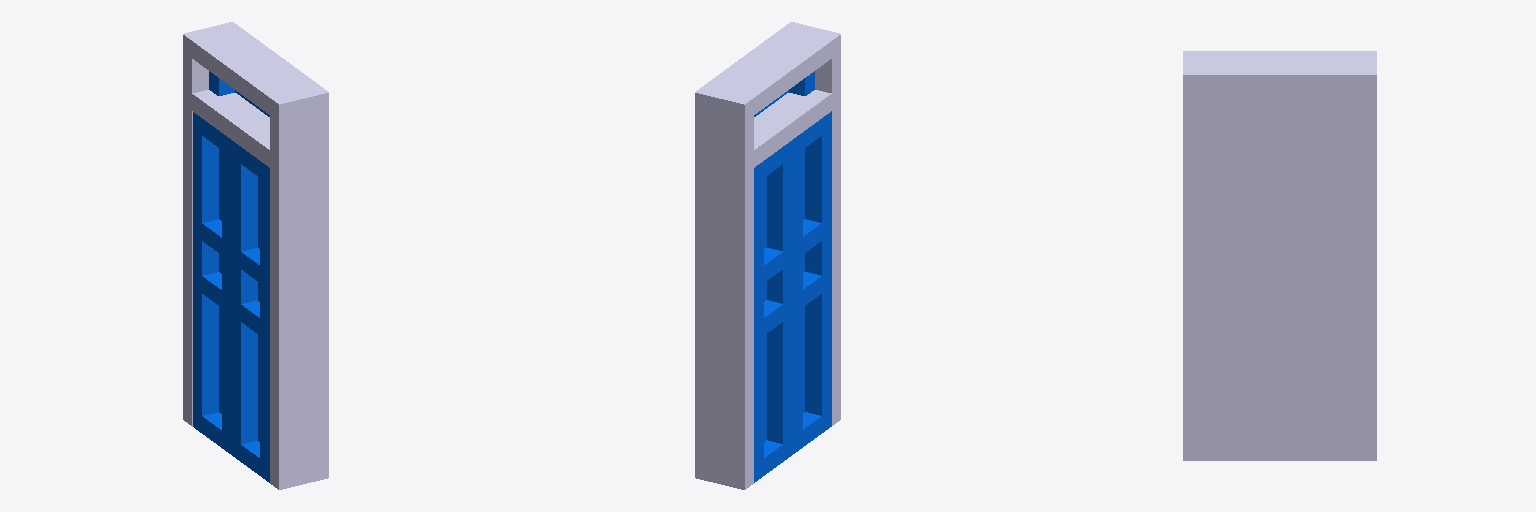
The model's file is Door.obj.
3 views of the same model, side by side, from view 1: azimuth 30°, elevation 25°; view 2: azimuth 150°, elevation 25°; view 3: azimuth 270°, elevation 25° (orthographic).
Parts seen in each view (by area): view 1: BuildingPieces.007, BuildingPieces.001; view 2: BuildingPieces.007, BuildingPieces.001; view 3: BuildingPieces.007.
Boxes of the visible parts, box(x1,y1,x2,y2) form: BuildingPieces.007: box(183, 22, 328, 489); BuildingPieces.001: box(193, 112, 269, 482); BuildingPieces.007: box(695, 22, 840, 489); BuildingPieces.001: box(754, 111, 831, 482); BuildingPieces.007: box(1183, 51, 1376, 460).
Bounding box in the file's own units: 0.3 × 2.2 × 1.